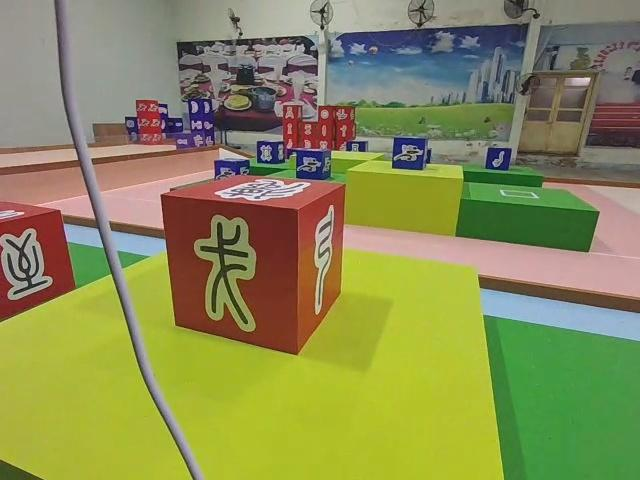R2 Fake: (159, 176, 348, 361), (1, 201, 77, 321)
